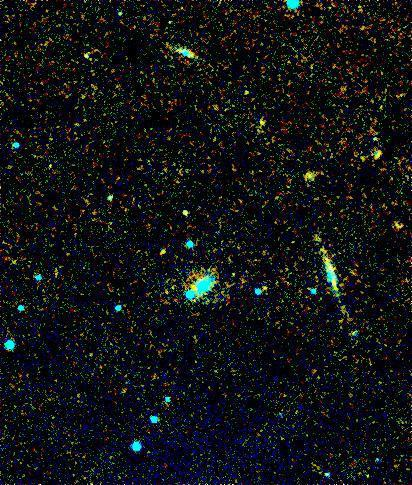star: (248, 273, 278, 303)
